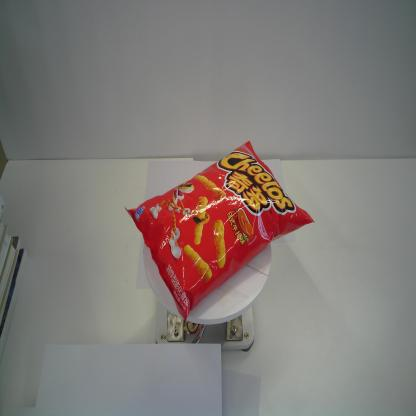Puffed Food: (123, 137, 318, 326)
